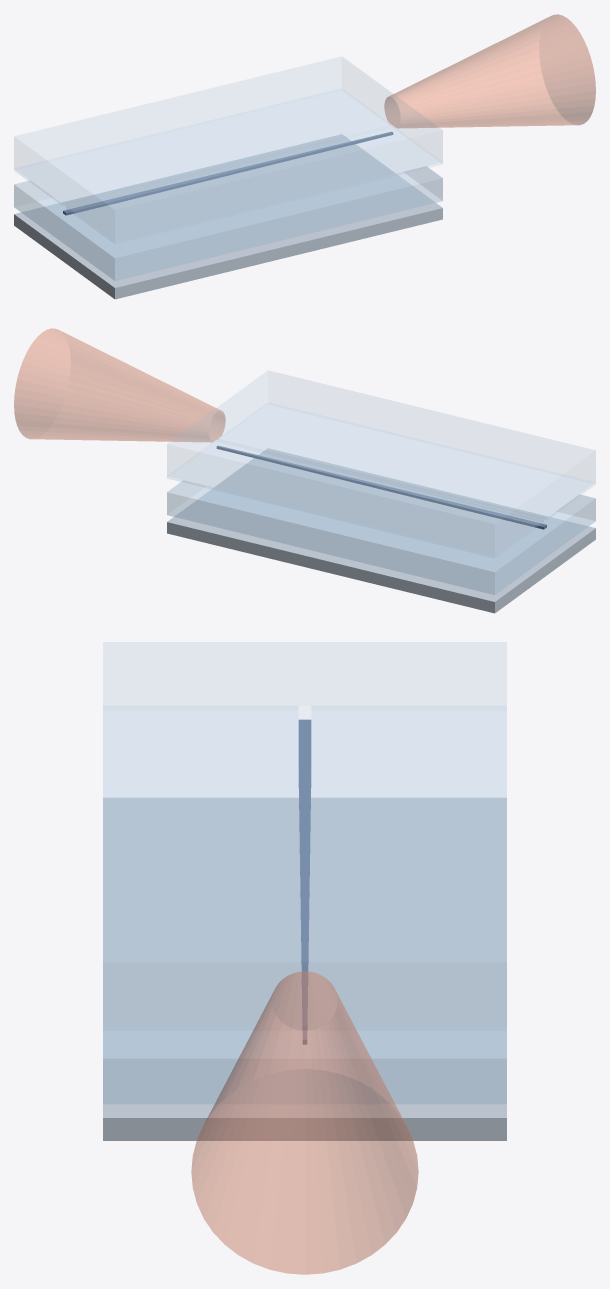
Rendered from stack-edge-x.glb.
3 renders of one model, top to bottom at view 1: azimuth 30°, elevation 25°; view 2: azimuth 150°, elevation 25°; view 3: azimuth 270°, elevation 25°, orthographic. The views are drawn at different scales.
Visible parts, largest first — view 1: cladd, sisub, box, beam, siwg; view 2: cladd, sisub, box, beam, siwg; view 3: cladd, sisub, beam, box, siwg.
Boxes of the visible parts, x1,y1,x2,y2 form: cladd: [14, 57, 442, 243]; sisub: [14, 134, 442, 299]; box: [14, 166, 442, 280]; beam: [384, 14, 595, 128]; siwg: [63, 131, 393, 215]; cladd: [167, 371, 595, 557]; sisub: [167, 448, 595, 613]; box: [167, 480, 595, 594]; beam: [14, 328, 225, 442]; siwg: [216, 445, 546, 529]; cladd: [103, 642, 506, 1030]; sisub: [103, 797, 506, 1140]; beam: [191, 971, 418, 1274]; box: [103, 1026, 506, 1104]; siwg: [298, 719, 311, 1044].
Size of the model in its own units: 46 by 10.61 by 16.
